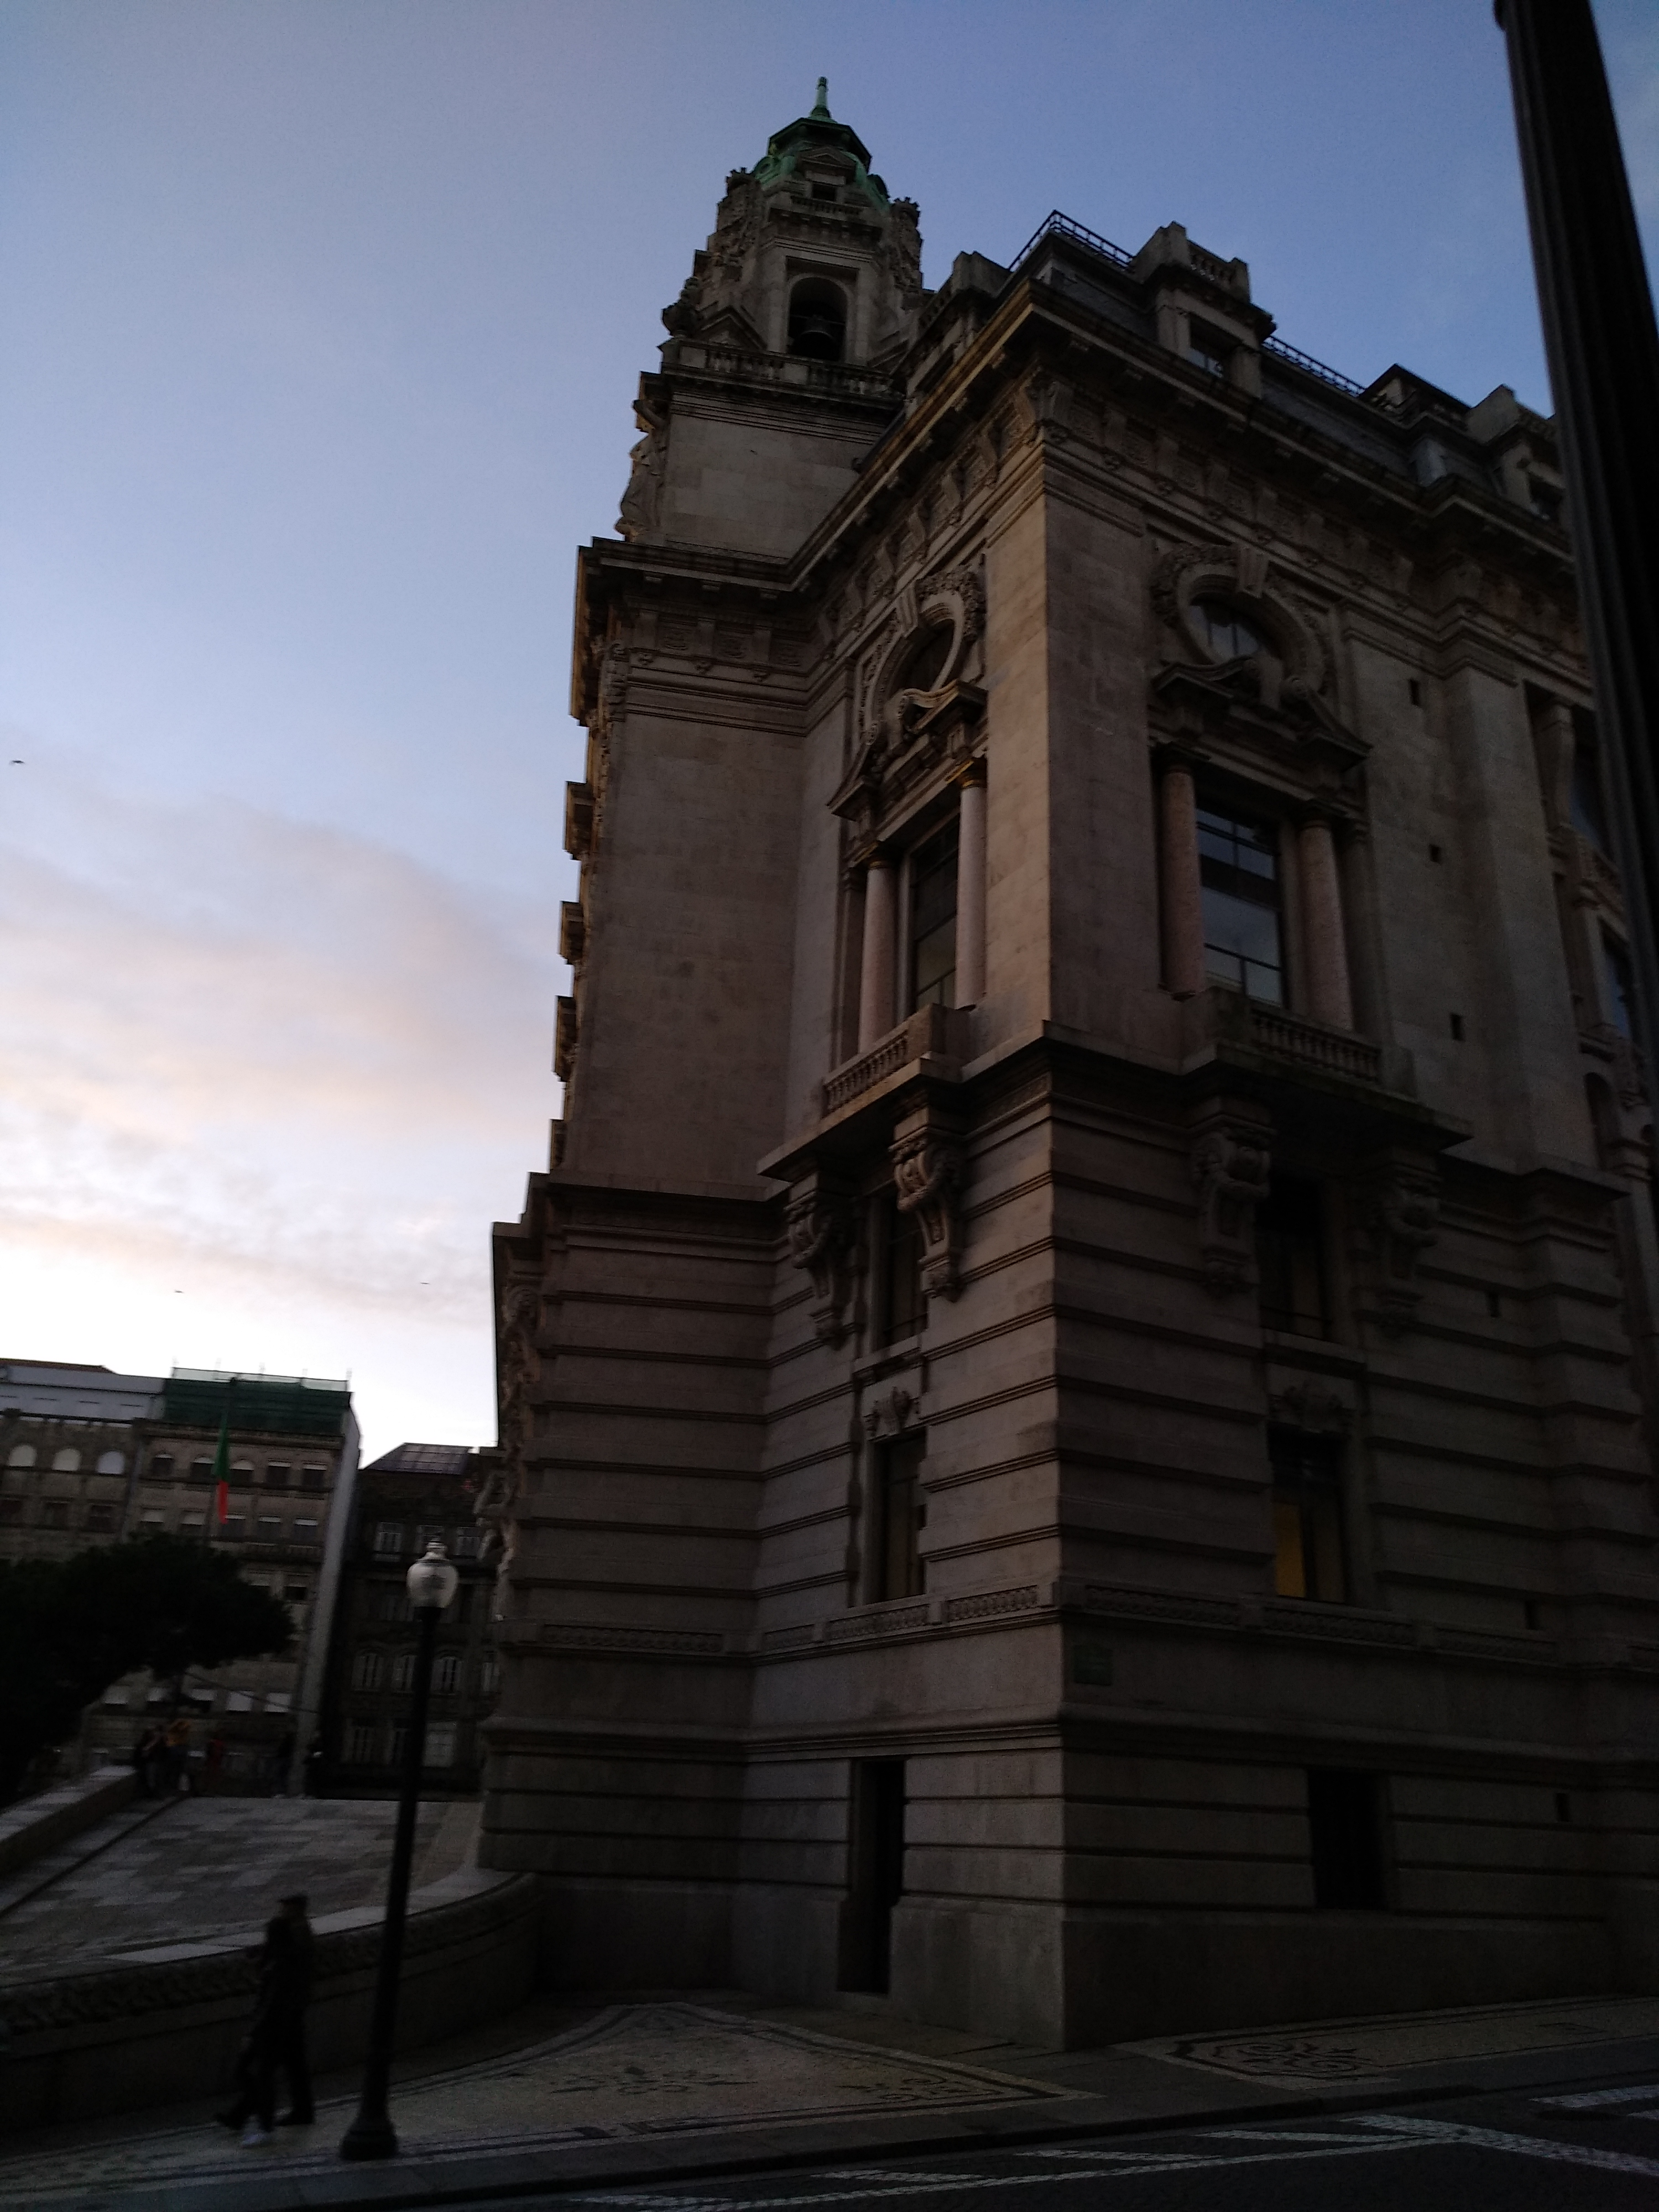camara: (467, 38, 1659, 1914)
